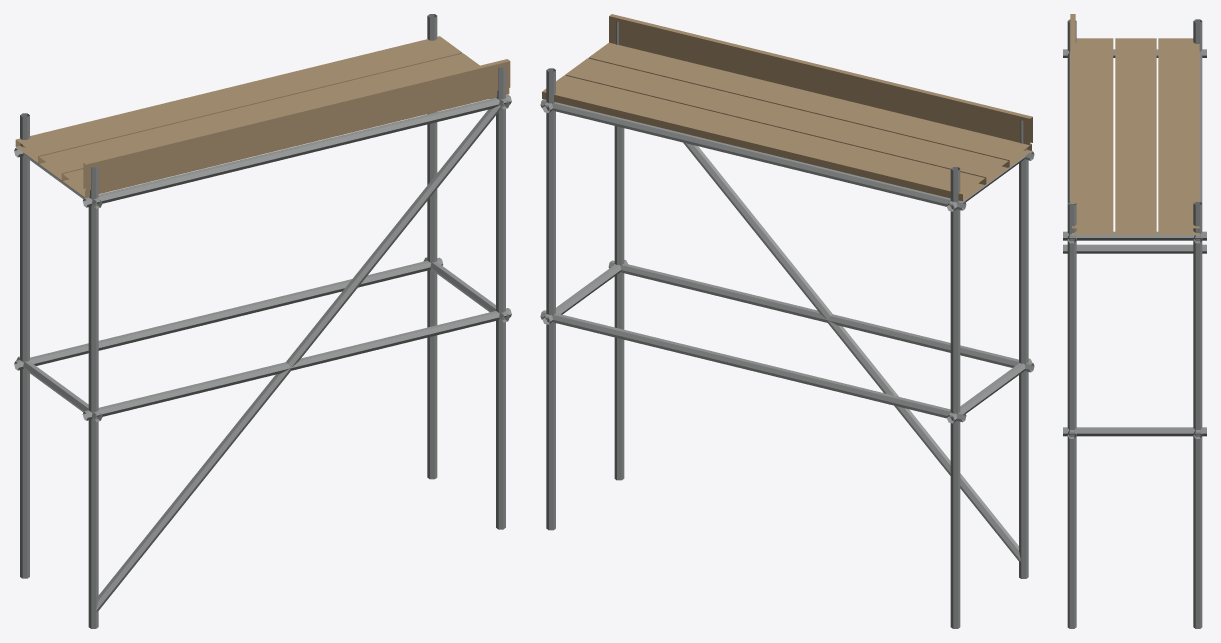
File: scaffolding.gltf
3 views of the same model, side by side, from view 1: azimuth 30°, elevation 25°; view 2: azimuth 150°, elevation 25°; view 3: azimuth 270°, elevation 25° (orthographic). The views are drawn at different scales.
Visible parts, largest first — view 1: Mesh; view 2: Mesh; view 3: Mesh.
Part boxes in pixels (x1=…): Mesh: x1=14, y1=14, x2=511, y2=628; Mesh: x1=540, y1=14, x2=1034, y2=628; Mesh: x1=1063, y1=14, x2=1206, y2=628.
Size of what is drawn, in the model's own units: 2.5 by 2.62 by 0.8.
